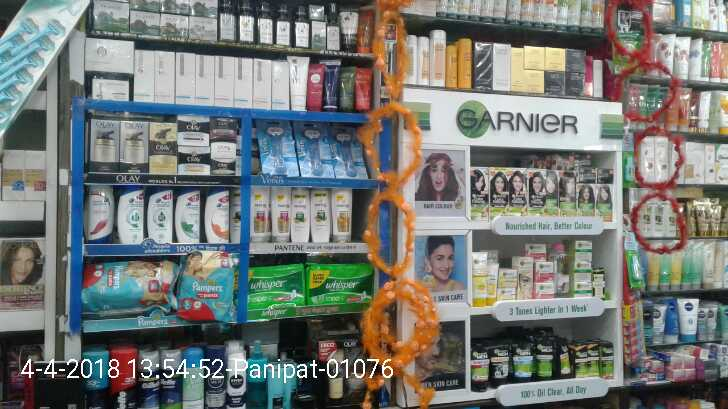venus: (1, 15, 64, 145), (256, 120, 300, 174), (335, 121, 370, 178), (300, 121, 335, 177)
